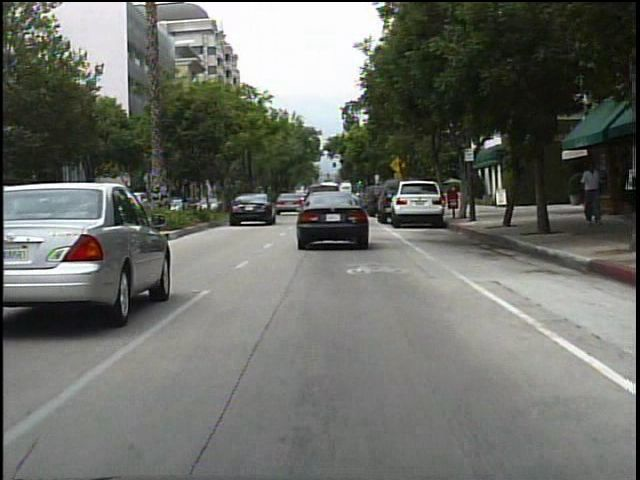person: (577, 160, 605, 232)
